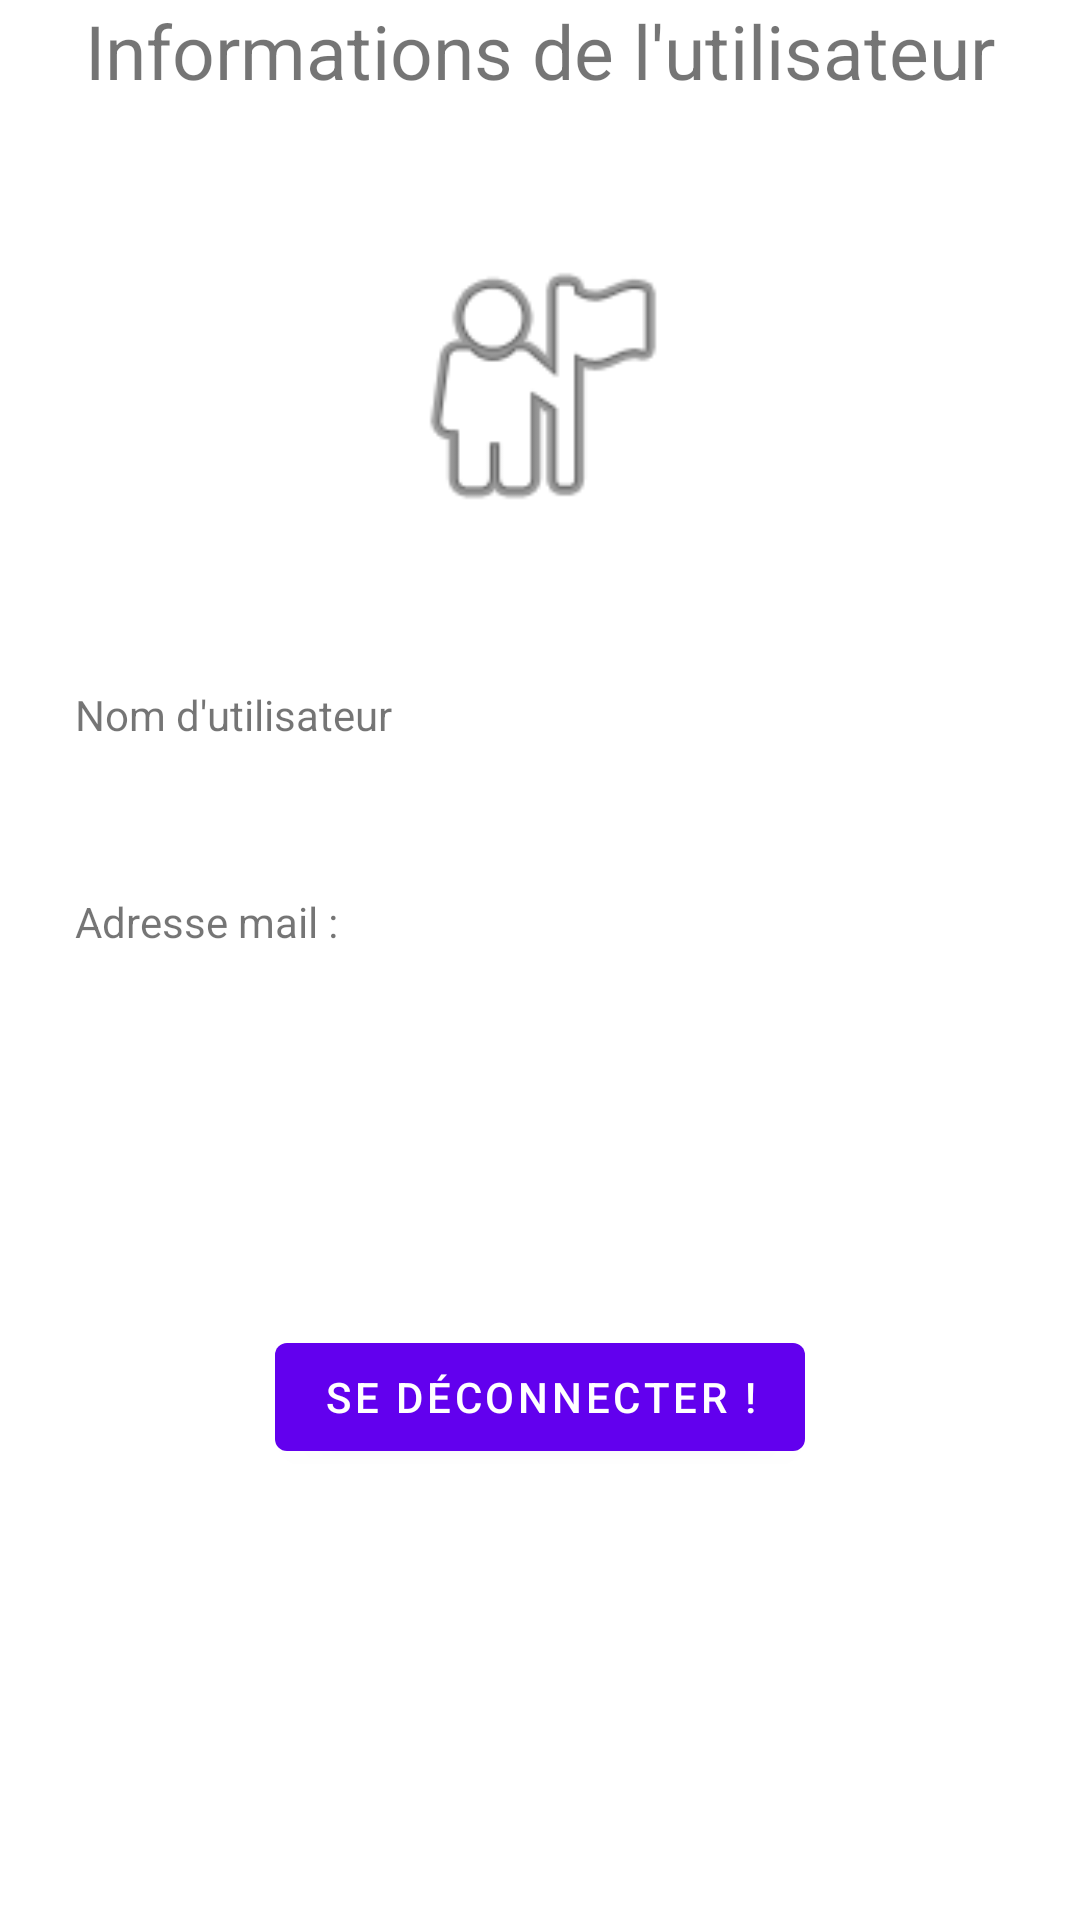

Point at icon controls on the screen. Image size 1080 × 1920, points as (x=x, y=y).
myplaces: (x=543, y=386)
